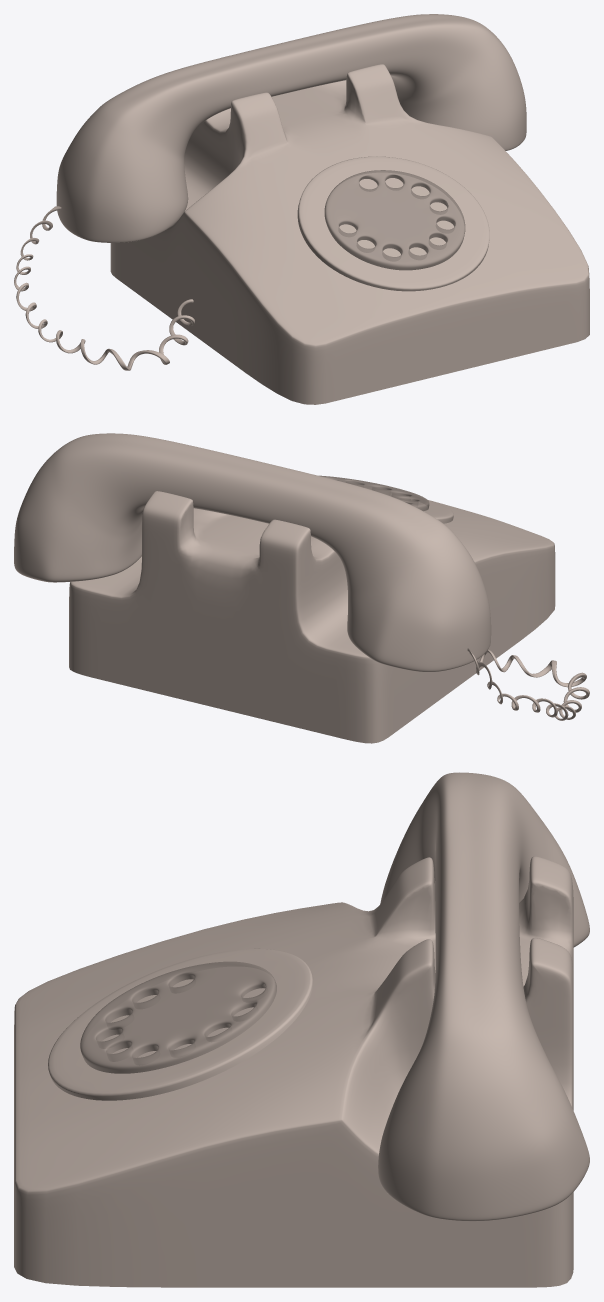
The model's file is Phone.fbx.
3 renders of one model, top to bottom at view 1: azimuth 30°, elevation 25°; view 2: azimuth 150°, elevation 25°; view 3: azimuth 270°, elevation 25°, orthographic. The views are drawn at different scales.
Visible parts, largest first — view 1: polySurface5; view 2: polySurface5; view 3: polySurface5.
Part boxes in pixels (box(x1,y1,x2,y2)): polySurface5: box(14, 14, 589, 404); polySurface5: box(14, 433, 589, 743); polySurface5: box(14, 772, 589, 1287).
Size of the model in its own units: 59.48 by 23.49 by 40.1.
